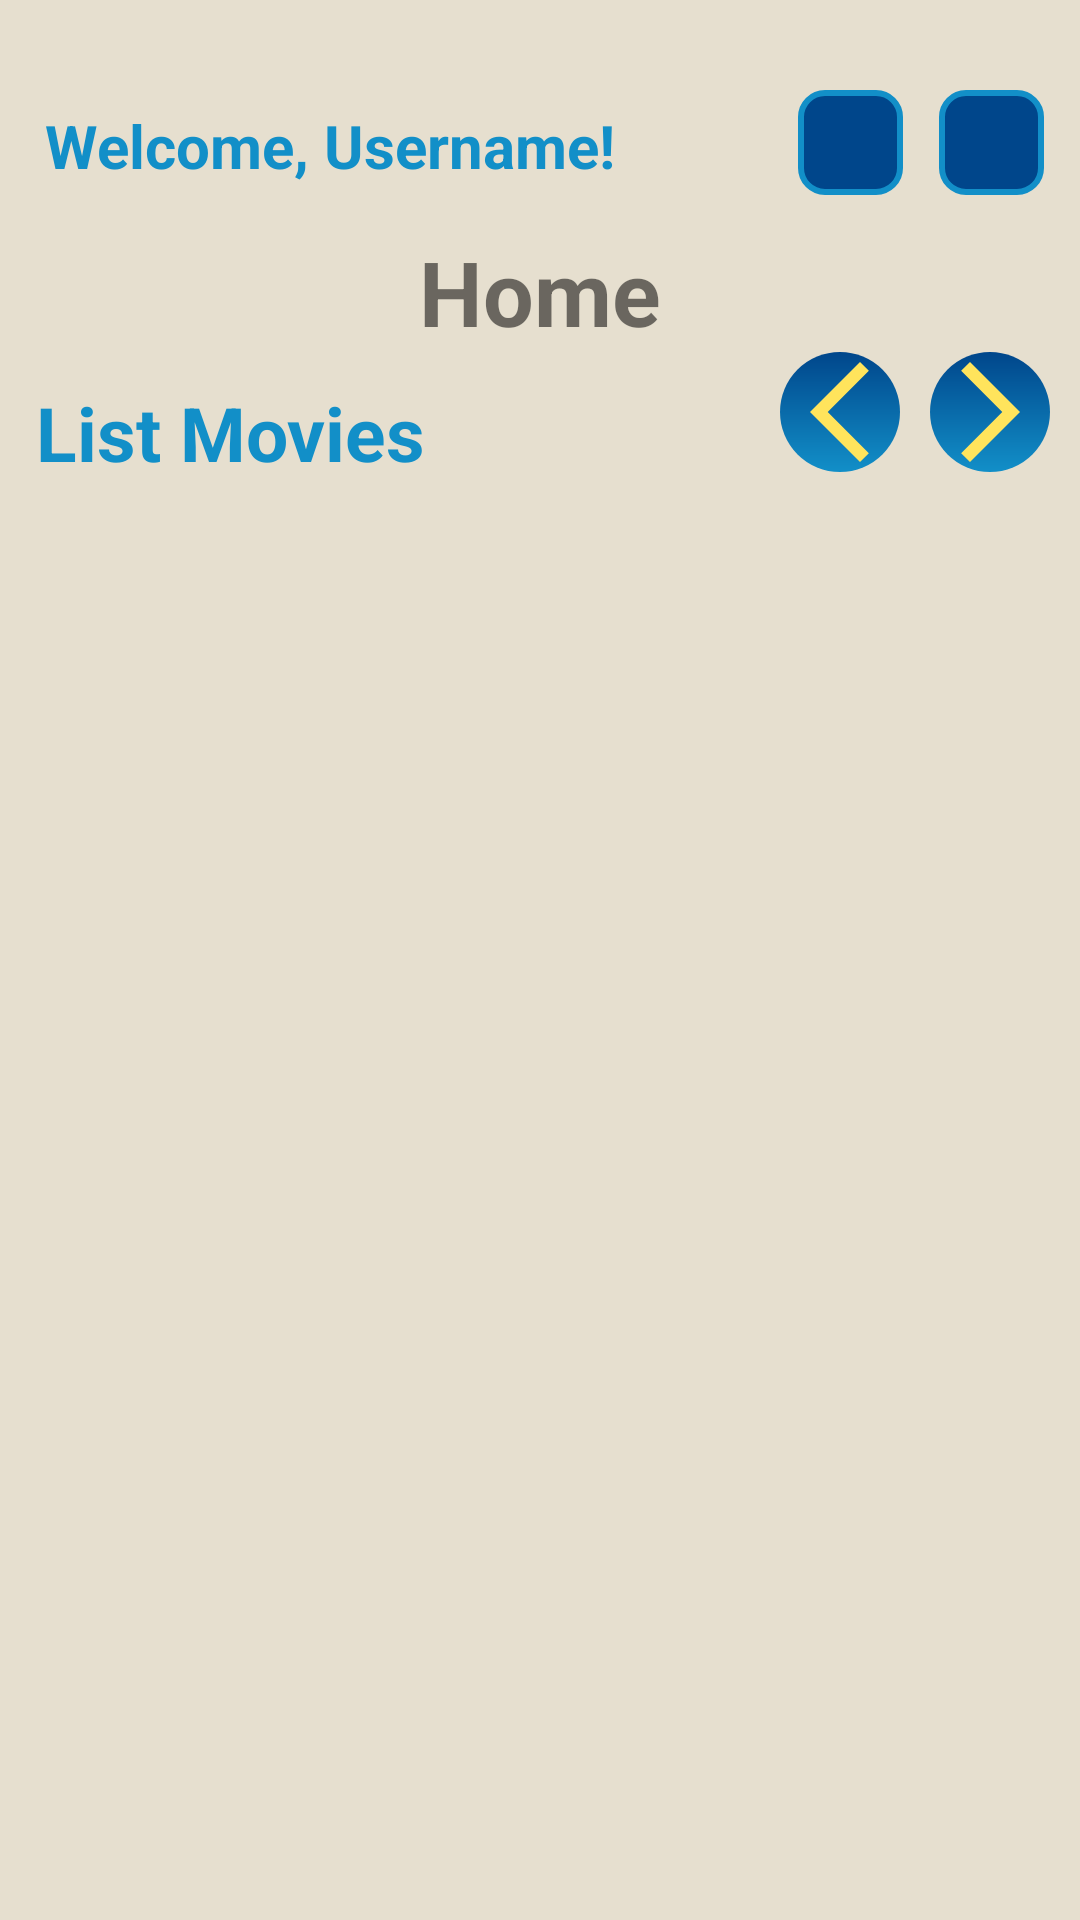

Where to tap for icons on this 1080 x 1920 app screen, as (x,y):
arrow left: (840,412)
arrow right: (990,412)
